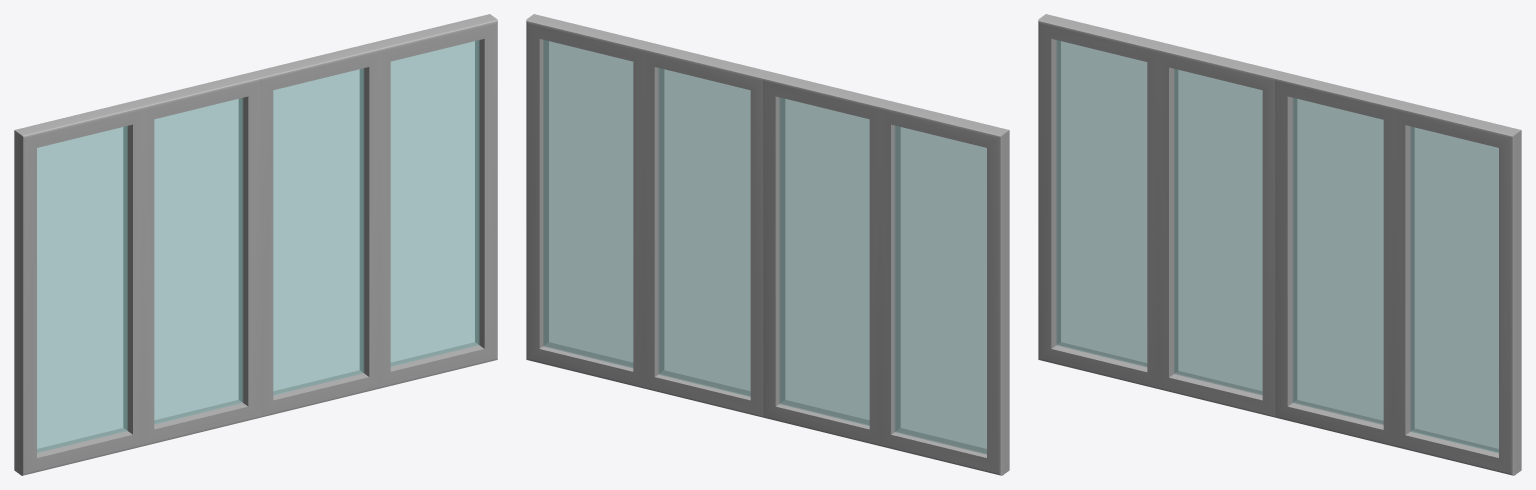
The model's file is WindowBand_01.fbx.
The picture shows the model from 3 angles, left to right: view 1: azimuth 30°, elevation 25°; view 2: azimuth 150°, elevation 25°; view 3: azimuth 330°, elevation 25°; orthographic projection.
Visible parts, largest first — view 1: WindowBand_01; view 2: WindowBand_01; view 3: WindowBand_01.
Part boxes in pixels (bbox=[...]): WindowBand_01: bbox=[14, 14, 497, 475]; WindowBand_01: bbox=[526, 14, 1009, 475]; WindowBand_01: bbox=[1038, 14, 1521, 475].
Bounding box in the file's own units: 200 × 137 × 6.84.
